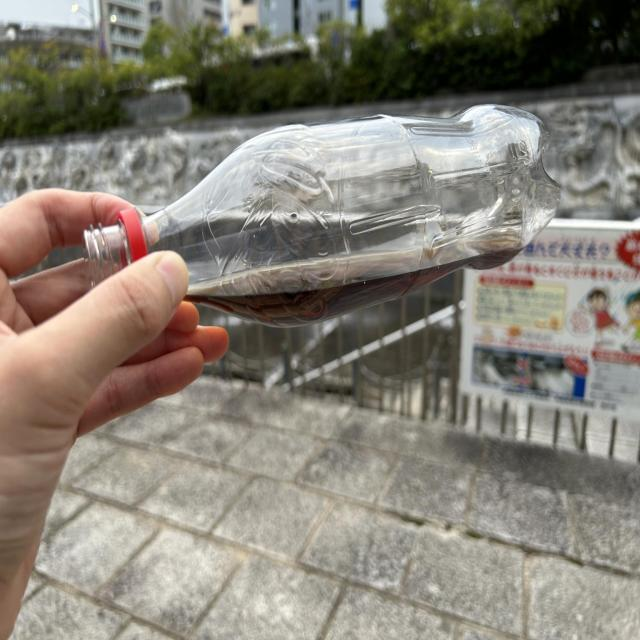low: (83, 105, 560, 326)
